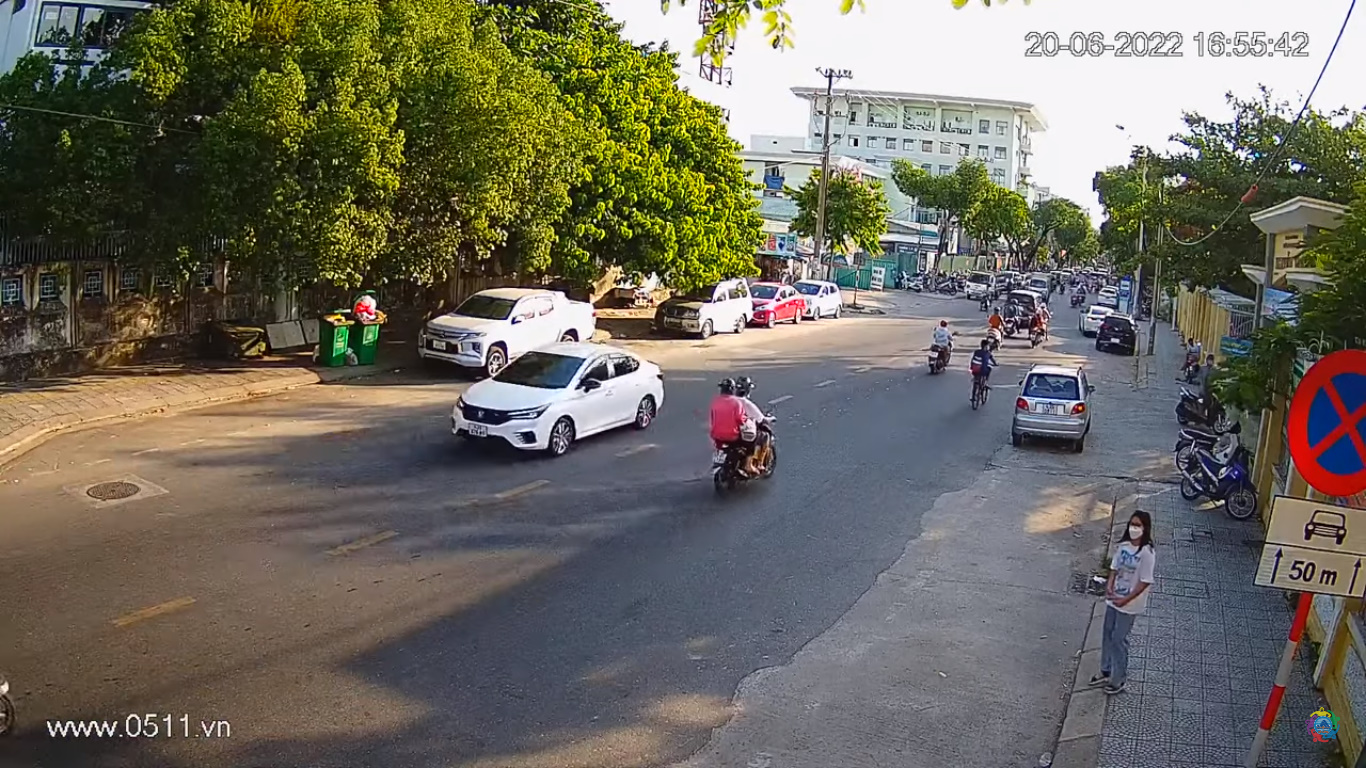car: (457, 350, 667, 460)
